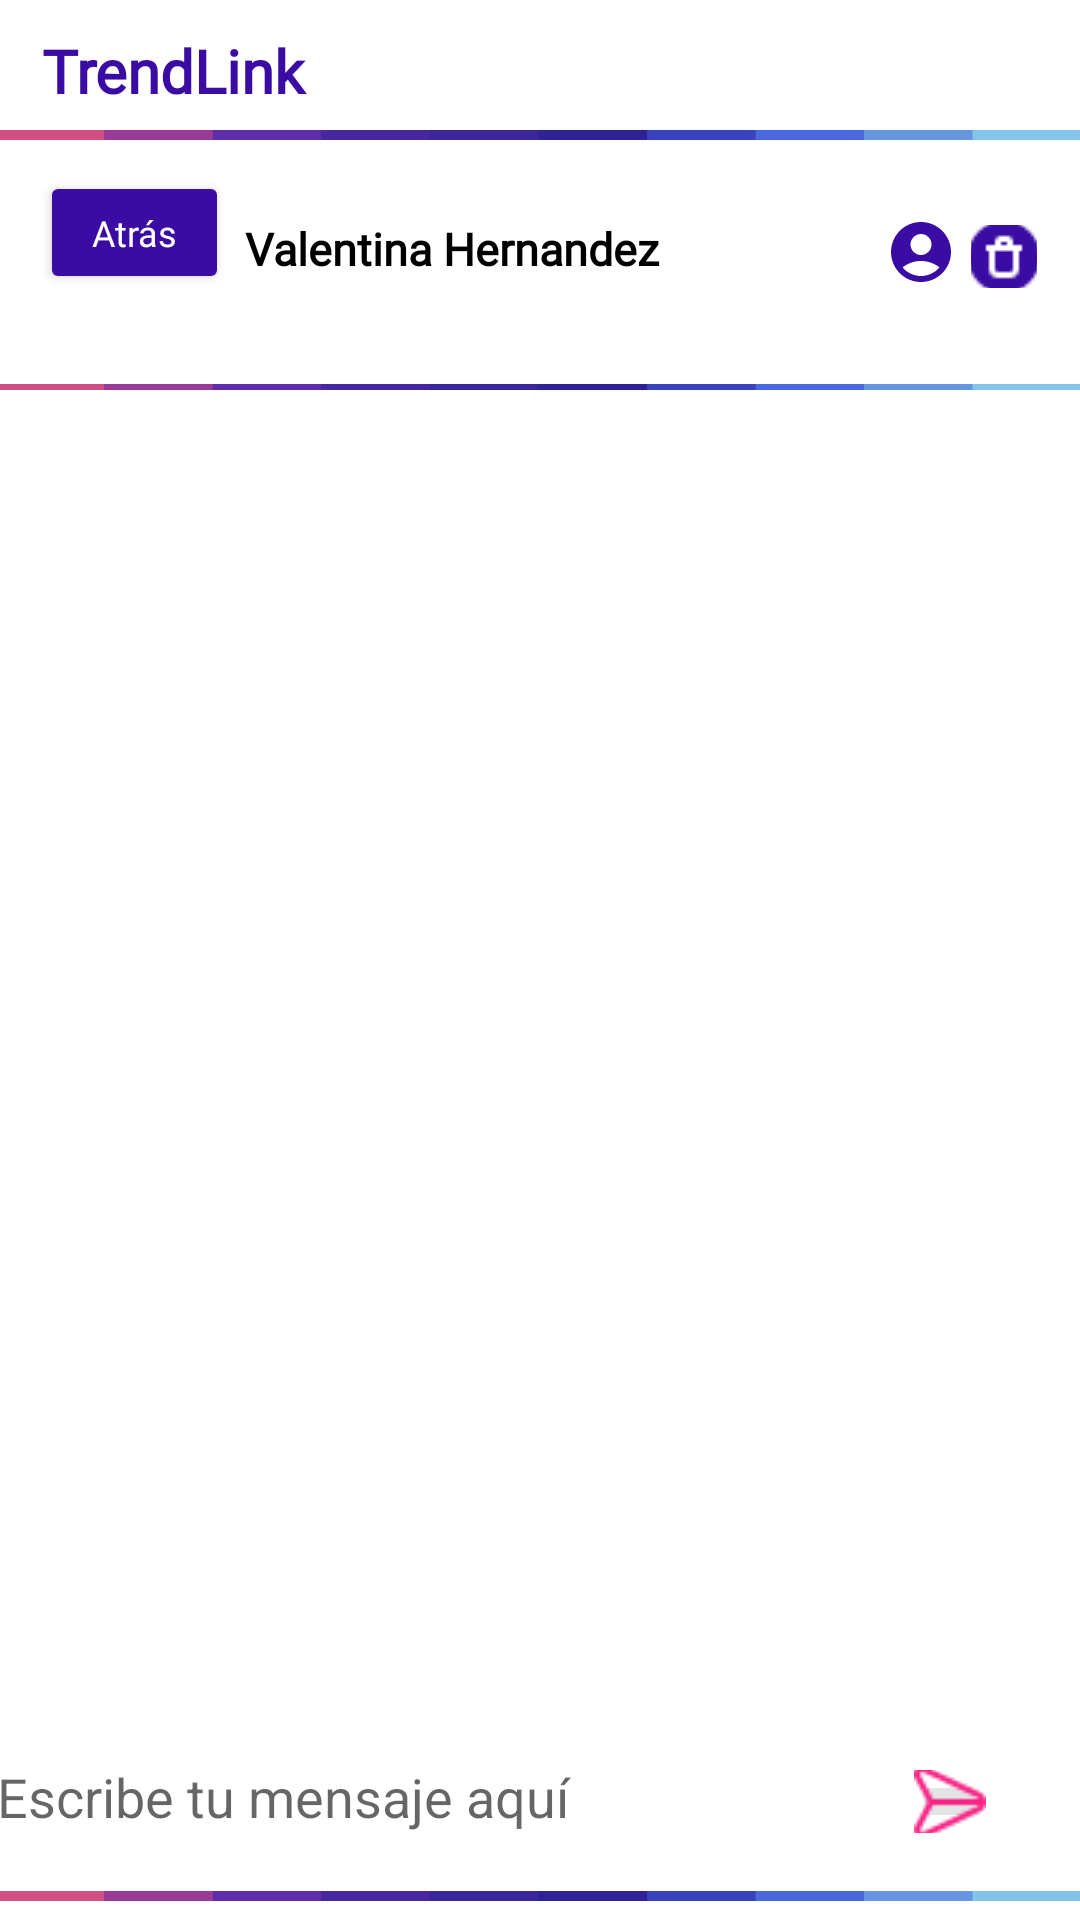

Icons on this 1080x1920 Android screen, each with the point to tap as [x,y]:
enviar: [950,1801]
usuario: [921,252]
